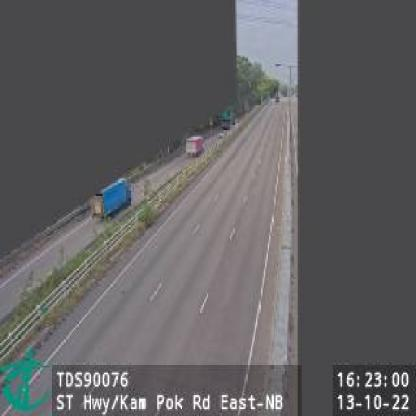Truck: (91, 172, 134, 222), (185, 132, 205, 158)
